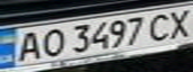3: (66, 21, 93, 54)
4: (90, 19, 112, 51)
7: (124, 15, 151, 47)
9: (106, 17, 130, 48)
A: (9, 29, 45, 63)
C: (145, 10, 178, 42)
O: (36, 26, 69, 59)
X: (163, 7, 193, 39)
